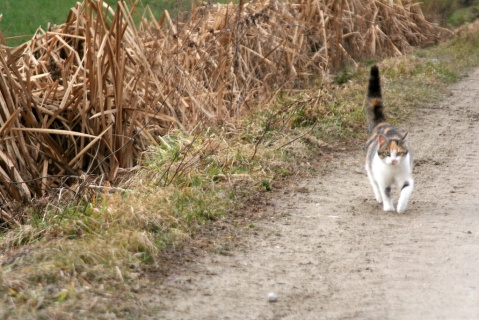Cat: (362, 64, 415, 216)
